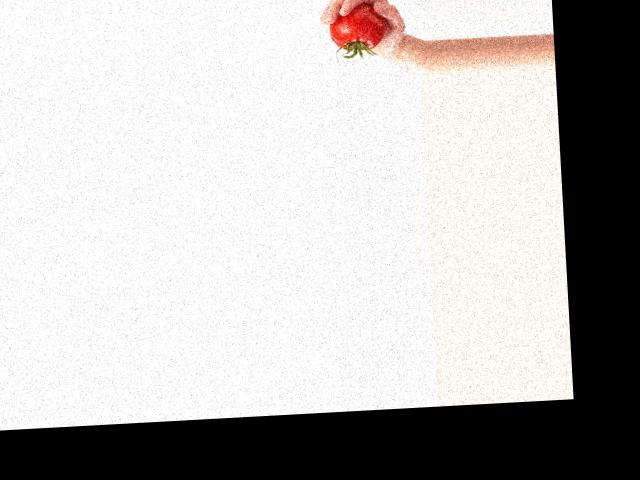tomato: (328, 2, 385, 52)
